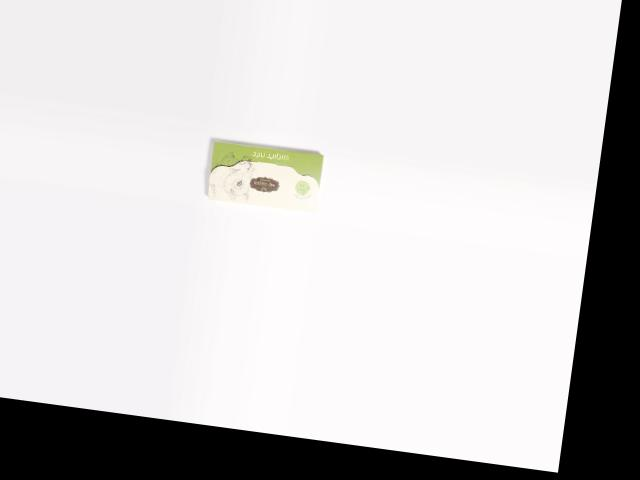chocolate: (204, 138, 325, 215)
